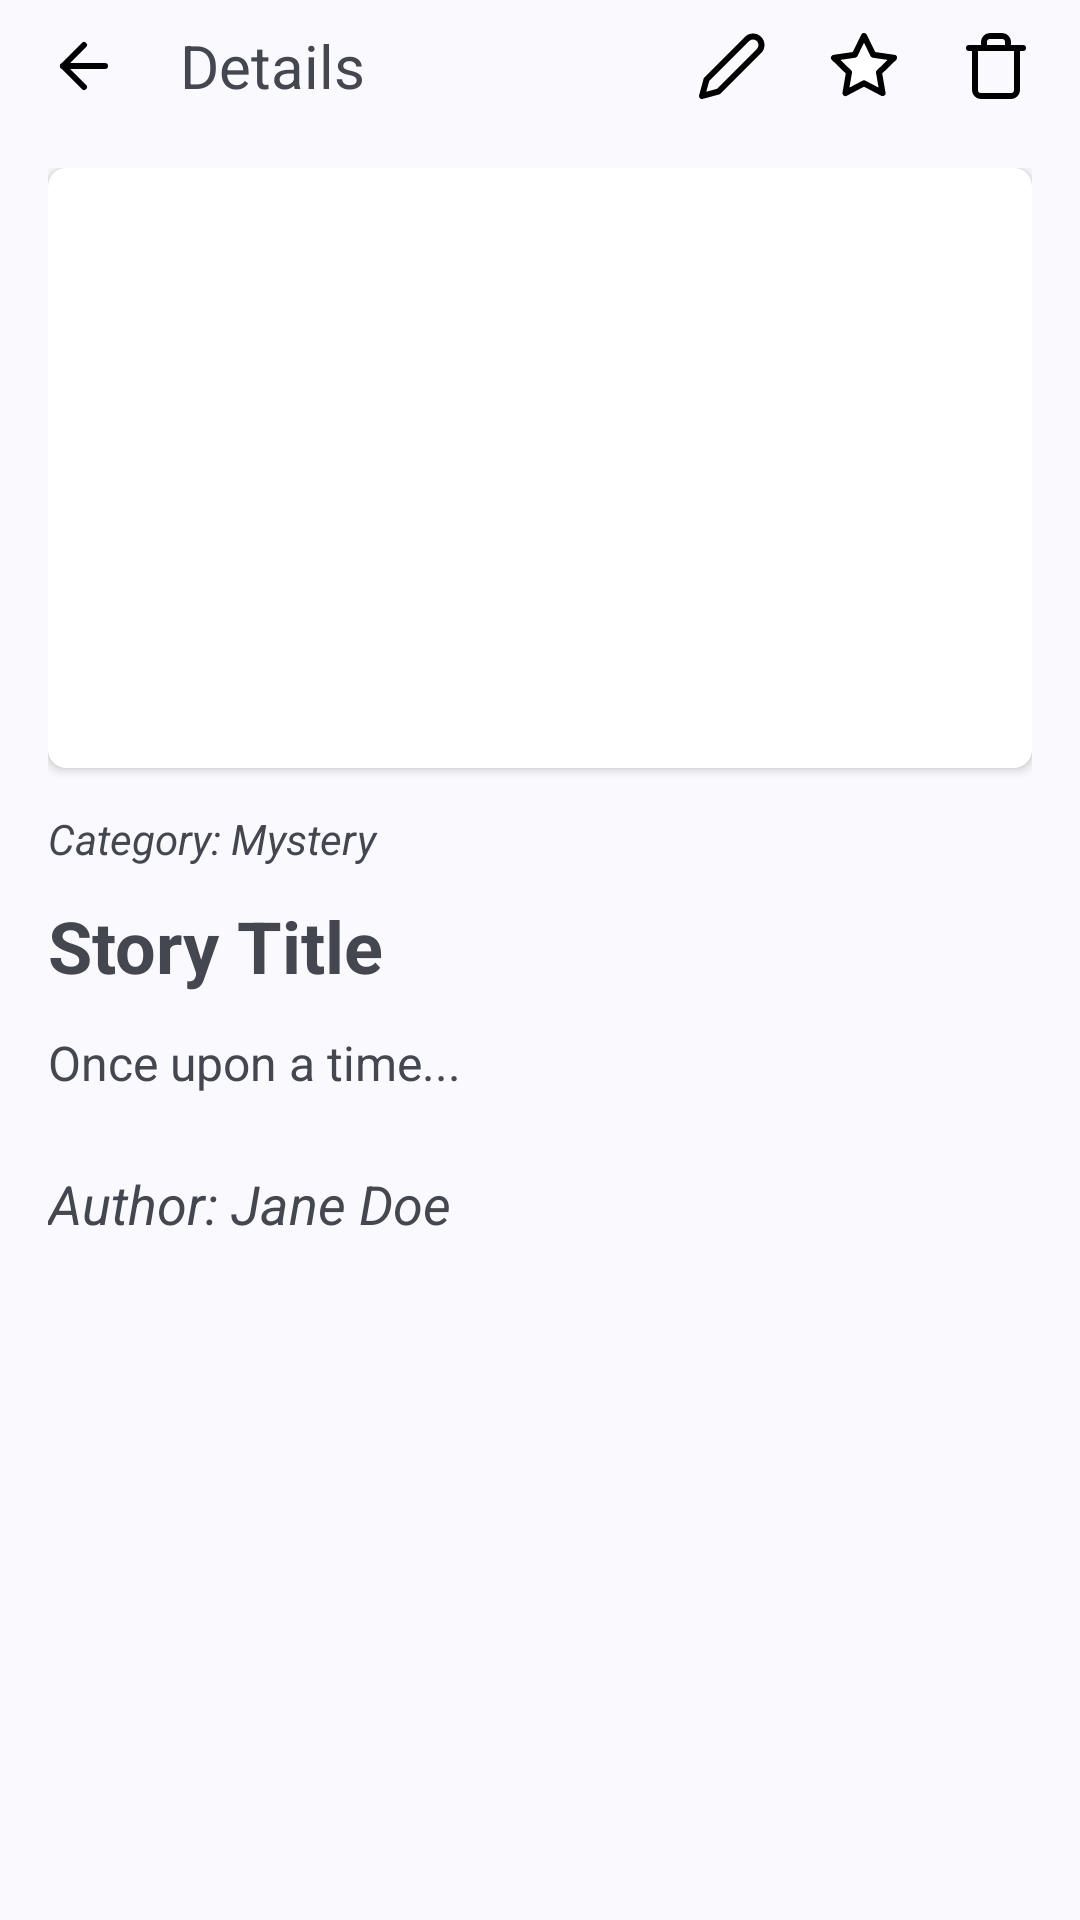

Point at icon controls on the screen. Image size 1080x1920, points as [x,y].
Delete Button: [996,66]
Edit Button: [732,66]
Favourite Button: [863,65]
Navigate back to the main menu: [84,66]
